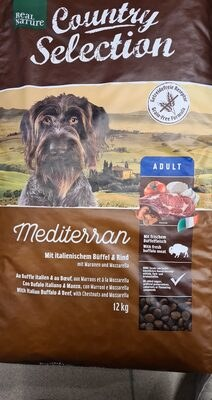Real Nature Mediterran: (11, 20, 201, 380)
